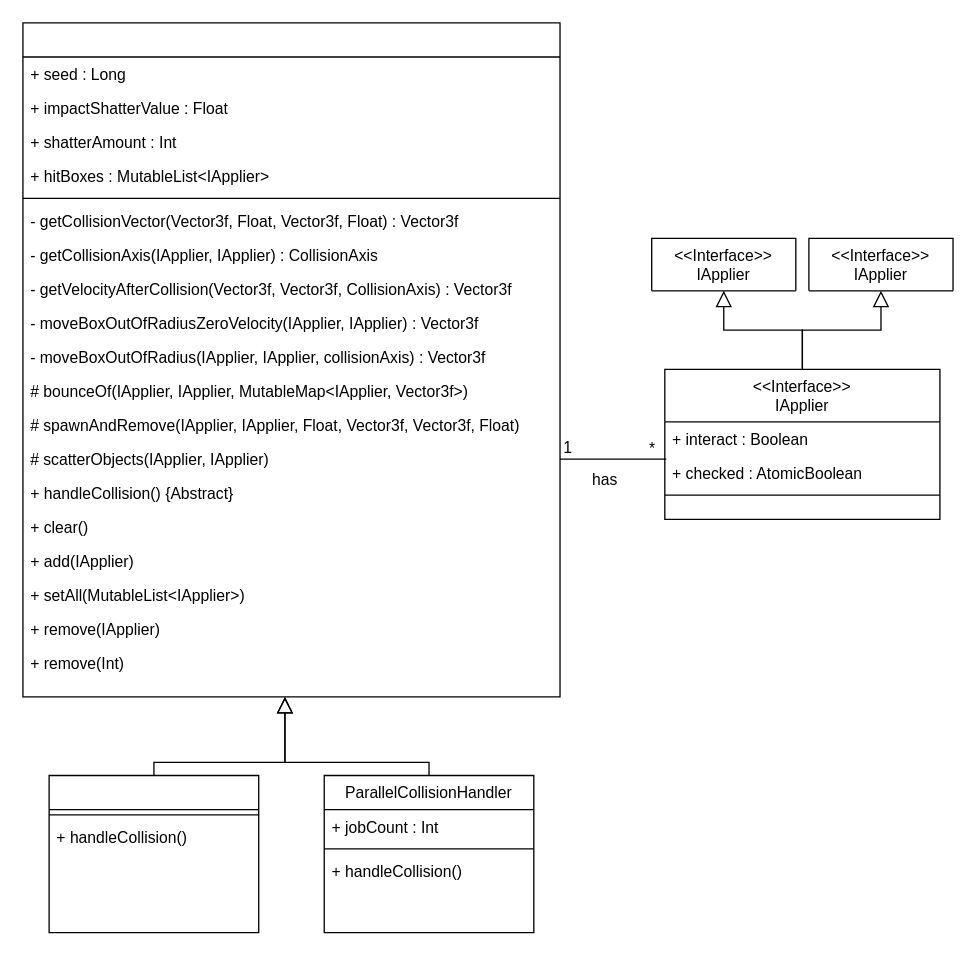
This 976x956 diagram has some shape labels left out. Here are the shapes that lost their labels. From the top down, the box of each, then its label:
(22, 22, 560, 697): CollisionHandler {Abstract}
(48, 774, 259, 933): CollisionHandler
